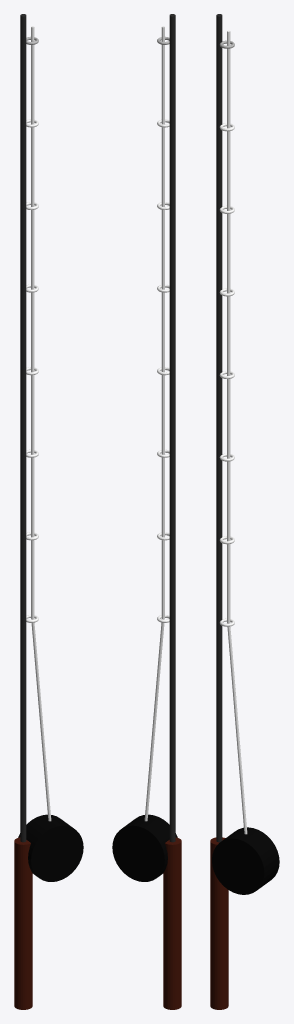
Rendered from rod.obj.
The picture shows the model from 3 angles, left to right: view 1: azimuth 30°, elevation 25°; view 2: azimuth 150°, elevation 25°; view 3: azimuth 330°, elevation 25°; orthographic projection.
Parts seen in each view (by area): view 1: Rod_Cylinder.001, Handle_Cylinder, Cylinder_Cylinder.002, Cylinder.001_Cylinder.004, Cylinder.002_Cylinder.006; view 2: Rod_Cylinder.001, Handle_Cylinder, Cylinder_Cylinder.002, Cylinder.001_Cylinder.004, Cylinder.002_Cylinder.006; view 3: Rod_Cylinder.001, Cylinder_Cylinder.002, Handle_Cylinder, Cylinder.001_Cylinder.004, Cylinder.002_Cylinder.006.
Boxes of the visible parts, box(x1,y1,x2,y2) form: Rod_Cylinder.001: box(20, 14, 26, 842); Handle_Cylinder: box(14, 837, 32, 1009); Cylinder_Cylinder.002: box(18, 814, 83, 881); Cylinder.001_Cylinder.004: box(31, 26, 34, 619); Cylinder.002_Cylinder.006: box(31, 619, 51, 821); Rod_Cylinder.001: box(169, 14, 175, 842); Handle_Cylinder: box(163, 837, 181, 1009); Cylinder_Cylinder.002: box(112, 814, 177, 881); Cylinder.001_Cylinder.004: box(161, 26, 164, 619); Cylinder.002_Cylinder.006: box(144, 619, 164, 821); Rod_Cylinder.001: box(216, 14, 222, 842); Cylinder_Cylinder.002: box(212, 827, 279, 894); Handle_Cylinder: box(210, 837, 228, 1009); Cylinder.001_Cylinder.004: box(227, 30, 230, 623); Cylinder.002_Cylinder.006: box(227, 626, 247, 834).
Bounding box in the file's own units: 0.23 × 3.6 × 0.1.
